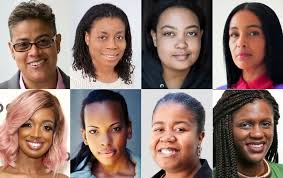black_female: (83, 13, 128, 66)
